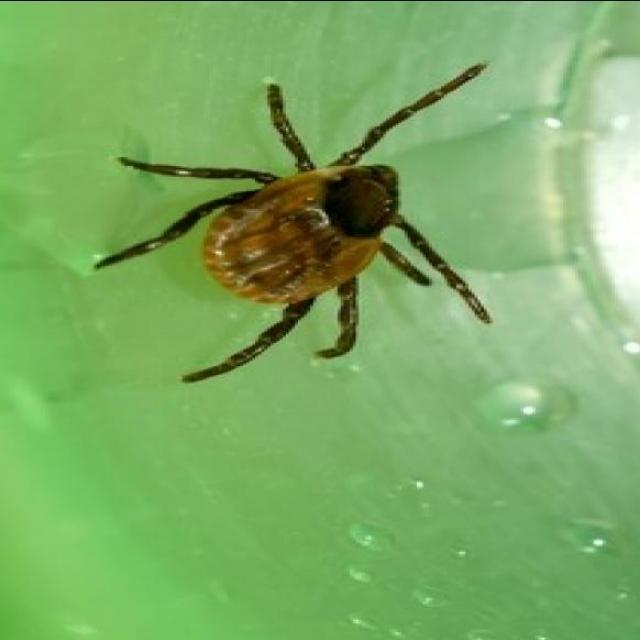Rhipicephalus Sanguineus-F: (97, 61, 490, 379)
